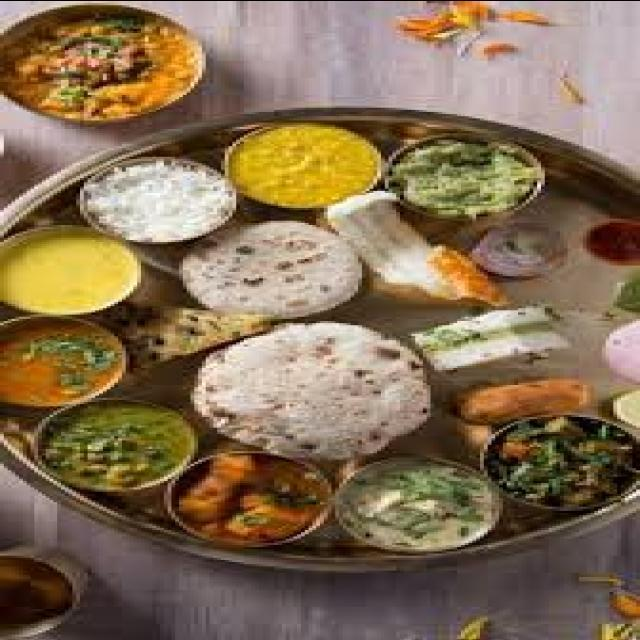dal: (223, 121, 381, 210), (4, 223, 138, 317), (7, 316, 129, 409)
papad: (332, 200, 462, 300)
pickle: (581, 213, 640, 271)
raita: (77, 158, 232, 242)
roti: (188, 316, 441, 459), (182, 222, 362, 320)
sambar-rasam: (1, 313, 130, 410)
veg-fry: (168, 454, 334, 547)
